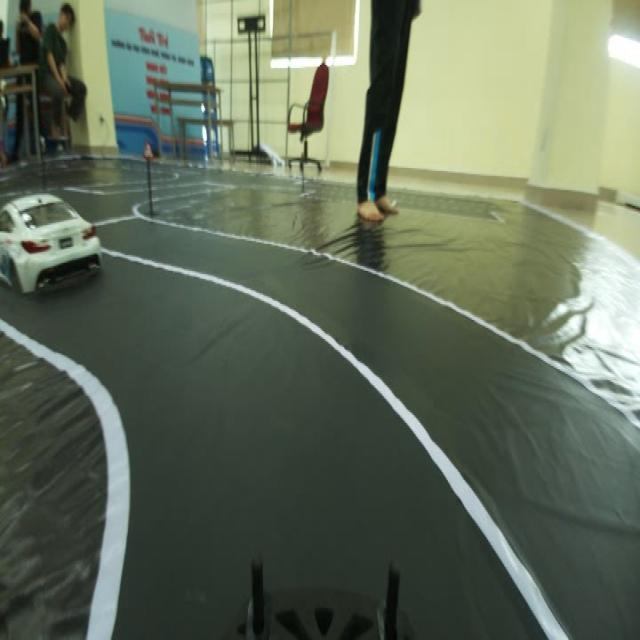car: (0, 165, 108, 304)
